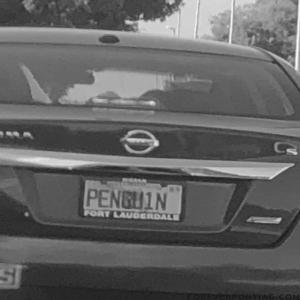Plate: (82, 178, 183, 221)
